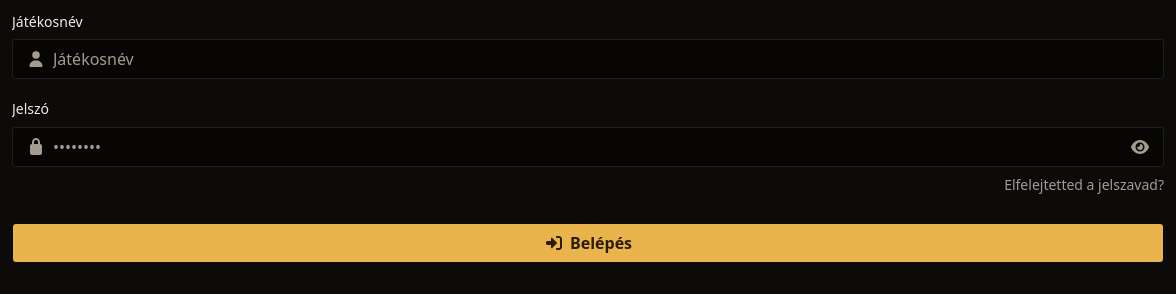
Test: "Vissza a jelszóhoz" goes back without sending anything
Type "Steve_01" into the field labelled "Játékosnév".
click(588, 59); type("Steve_01")  # box [12, 39, 1164, 79]
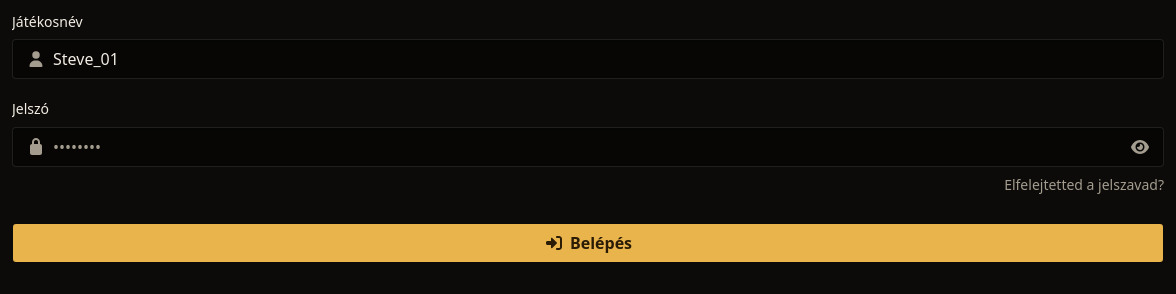
Type "titkos-jelszo" into the password field labelled "Jelszó".
click(588, 146); type("titkos-jelszo")  # box [12, 126, 1164, 166]
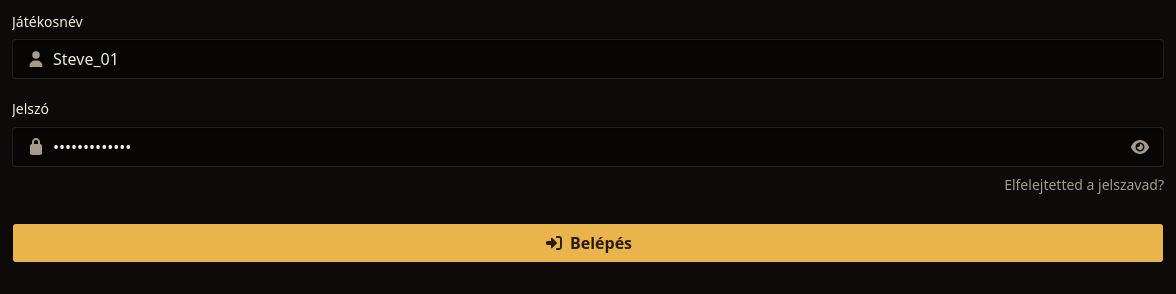
Click the button "Belépés".
click(588, 242)  # box [12, 222, 1164, 262]
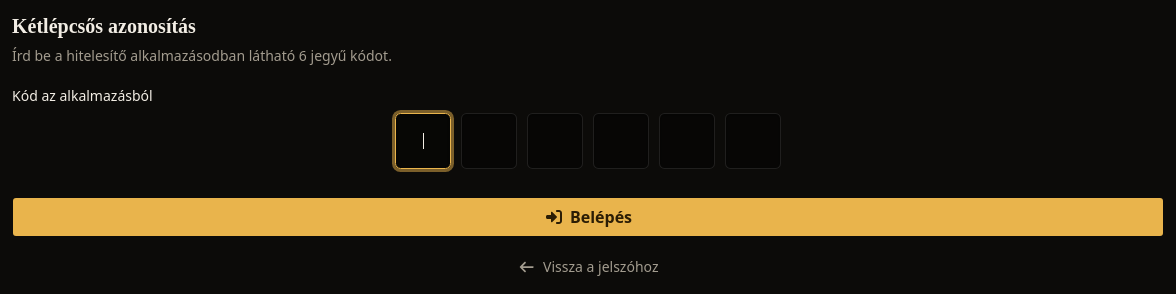
Click the button "Vissza a jelszóhoz".
click(588, 267)  # box [518, 257, 658, 277]
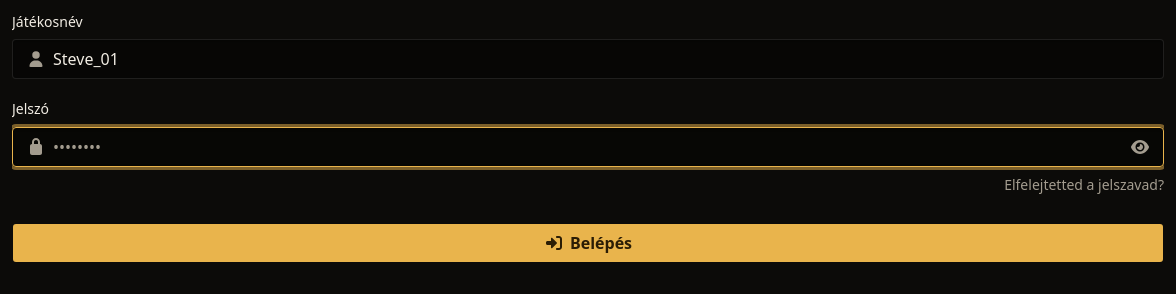
Now the password field labelled "Jelszó" is shown, box [12, 126, 1164, 166]
